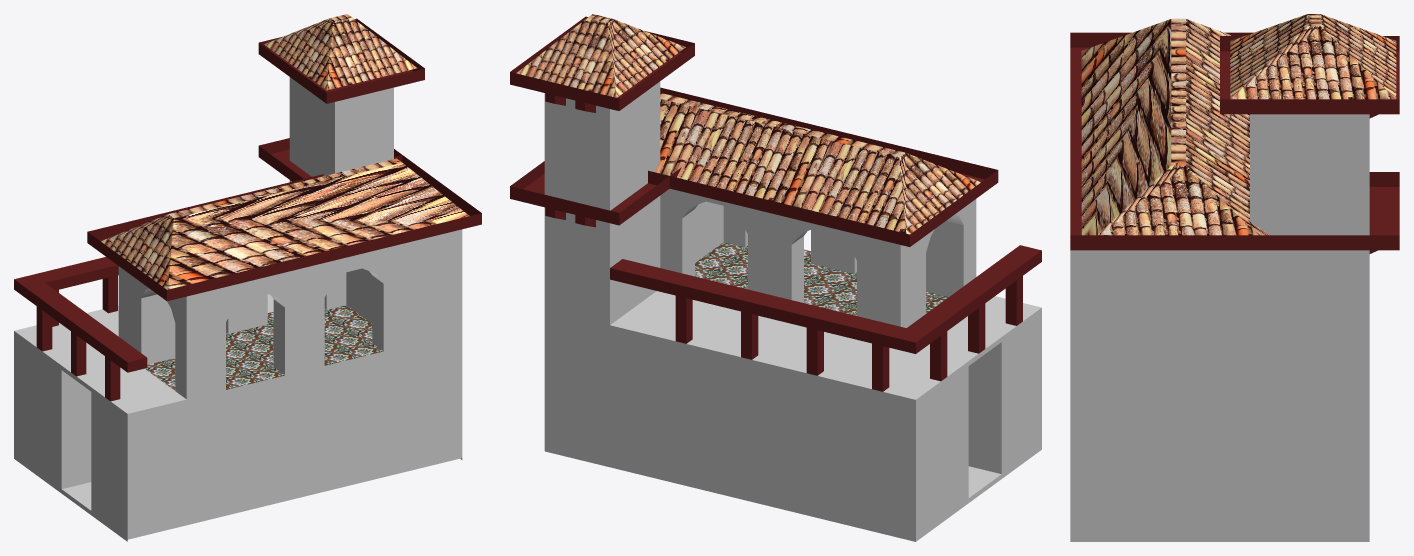
File: FBX_RealisticModels_House.fbx
The picture shows the model from 3 angles, left to right: view 1: azimuth 30°, elevation 25°; view 2: azimuth 150°, elevation 25°; view 3: azimuth 270°, elevation 25°; orthographic projection. The views are drawn at different scales.
Visible parts, largest first — view 1: pPlane2, pCube4, pCube17, pCube16, pCube10, pPlane1, pCube142, pCube25, pPlane3, pCube132, pCube141, pCube14 (+10 smaller); view 2: pCube4, pCube17, pCube25, pCube10, pCube16, pCube131, pCube5, pPlane1, pCube132, pCube14, pCube15, pCube9 (+9 smaller); view 3: pCube4, pCube17, pCube10, pCube16, pCube15, pCube14.
Boxes of the visible parts, x1,y1,x2,y2 form: pPlane2: [127, 229, 462, 539]; pCube4: [14, 77, 462, 541]; pCube17: [101, 158, 469, 289]; pCube16: [87, 155, 481, 301]; pCube10: [264, 14, 417, 90]; pPlane1: [145, 305, 383, 390]; pCube142: [304, 244, 403, 370]; pCube25: [14, 257, 147, 372]; pPlane3: [335, 87, 393, 173]; pCube132: [130, 274, 186, 398]; pCube141: [208, 268, 304, 393]; pCube14: [258, 18, 424, 103]; pCube4: [544, 81, 1041, 541]; pCube17: [655, 93, 980, 234]; pCube25: [610, 245, 1041, 353]; pCube10: [516, 14, 685, 97]; pCube16: [648, 87, 998, 246]; pCube131: [769, 213, 878, 321]; pCube5: [660, 188, 769, 294]; pPlane1: [695, 242, 948, 315]; pCube132: [913, 199, 976, 322]; pCube14: [510, 16, 694, 110]; pCube15: [510, 161, 681, 225]; pCube9: [879, 239, 913, 327]; pCube4: [1070, 114, 1369, 541]; pCube17: [1081, 18, 1269, 235]; pCube10: [1230, 14, 1396, 99]; pCube16: [1070, 32, 1279, 250]; pCube15: [1220, 172, 1399, 250]; pCube14: [1220, 36, 1399, 114].
Size of the model in its own units: 1.8 by 1.85 by 1.1.
